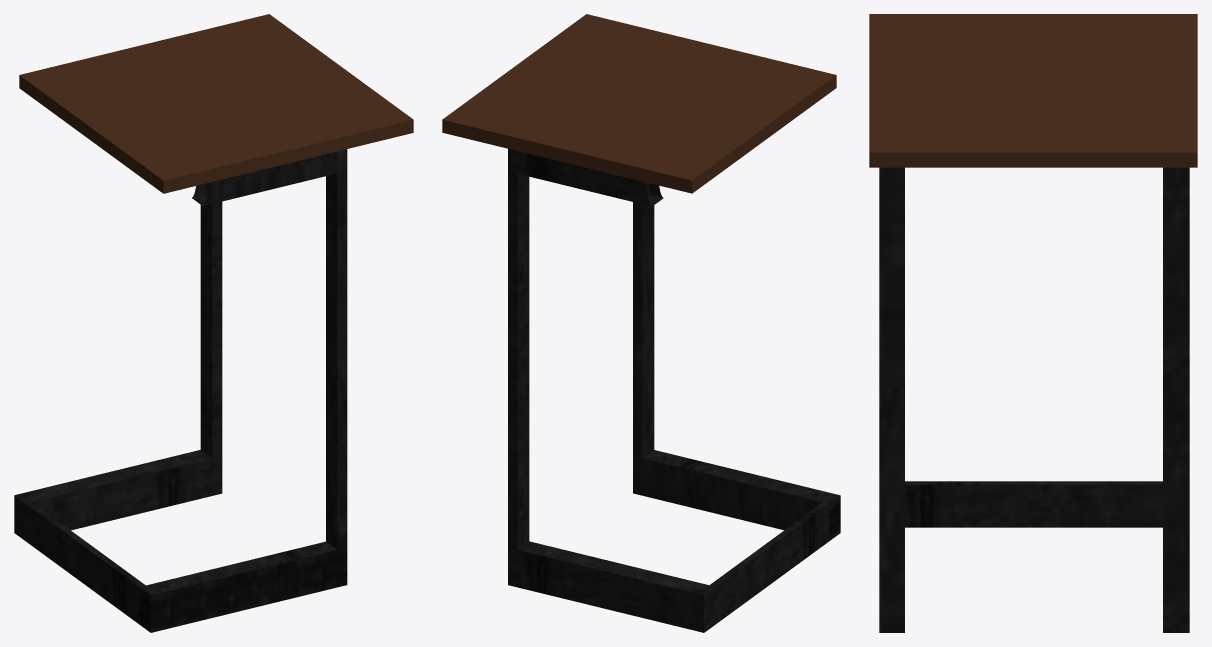
File: Mesita1.fbx
3 renders of one model, left to right at view 1: azimuth 30°, elevation 25°; view 2: azimuth 150°, elevation 25°; view 3: azimuth 270°, elevation 25°, orthographic. The views are drawn at different scales.
Visible parts, largest first — view 1: Group4, Group3, Group2; view 2: Group4, Group2, Group3; view 3: Group4, Group2, Group3.
Boxes of the visible parts, left/top/right/bottom form: Group4: left=19, top=14, right=413, bottom=193; Group3: left=139, top=149, right=347, bottom=632; Group2: left=14, top=201, right=222, bottom=624; Group4: left=442, top=14, right=836, bottom=193; Group2: left=508, top=149, right=829, bottom=632; Group3: left=633, top=202, right=840, bottom=540; Group4: left=869, top=14, right=1197, bottom=167; Group2: left=905, top=167, right=1189, bottom=632; Group3: left=879, top=167, right=904, bottom=632.
Size of the model in its own units: 16.28 by 27.26 by 15.75.
